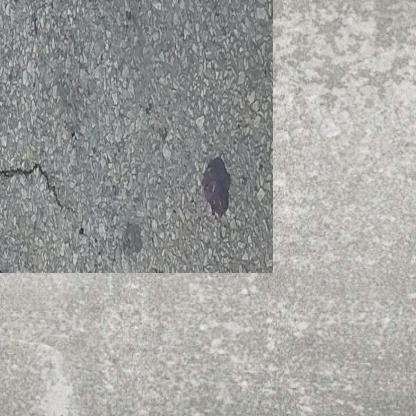Cracks: (0, 148, 62, 197), (0, 232, 6, 252)
